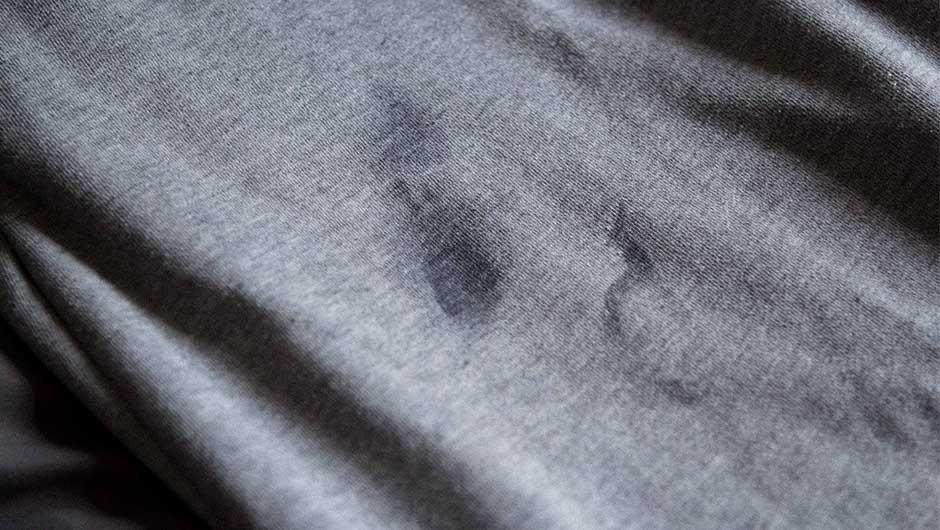gun: (356, 94, 520, 329), (747, 272, 935, 449), (604, 201, 706, 408)
